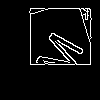M: (25, 25, 86, 84)
